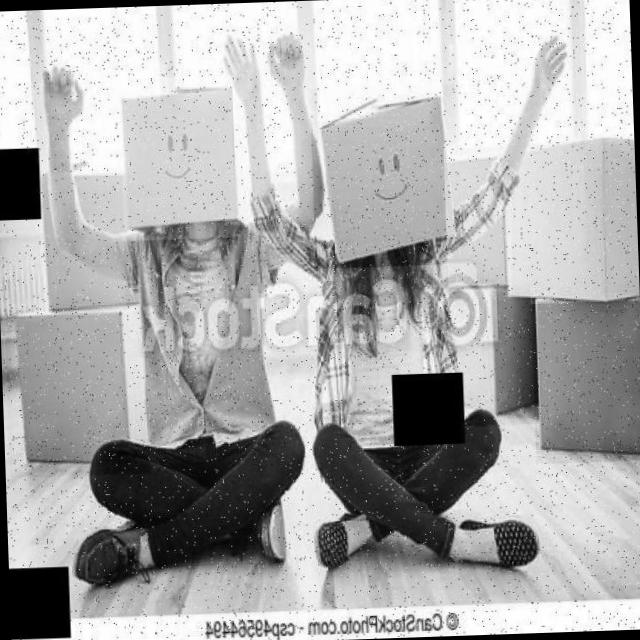box: (310, 83, 460, 270), (4, 306, 150, 478), (500, 128, 640, 297), (113, 75, 240, 241), (530, 299, 640, 463), (37, 170, 126, 314), (448, 284, 535, 427), (443, 142, 513, 286)
